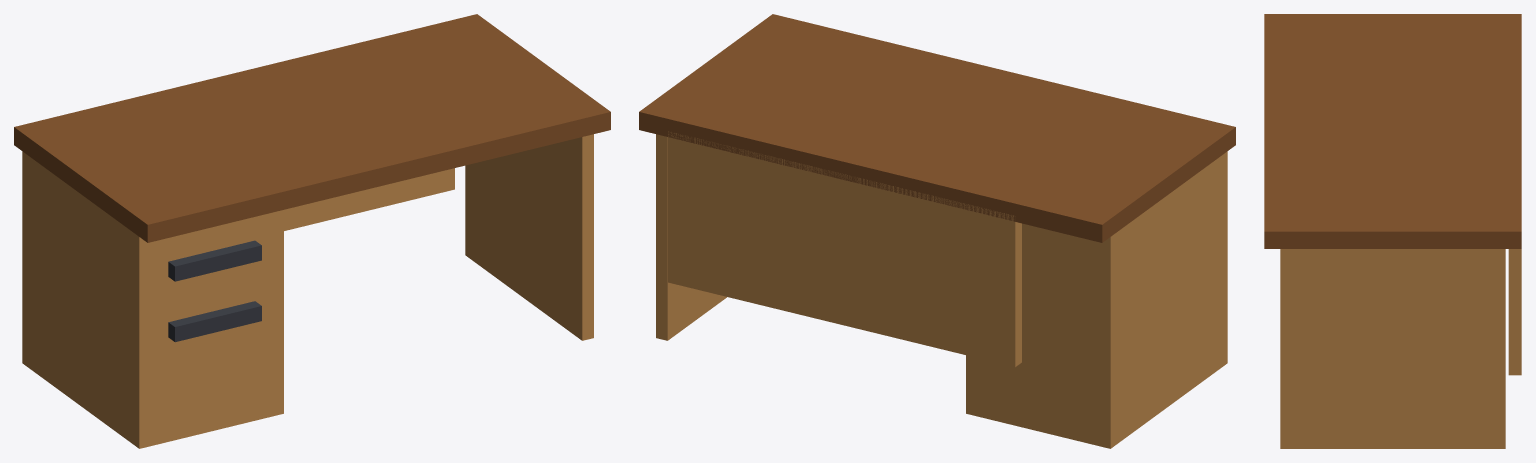
The model's file is teacher_desk.glb.
3 renders of one model, left to right at view 1: azimuth 30°, elevation 25°; view 2: azimuth 150°, elevation 25°; view 3: azimuth 270°, elevation 25°, orthographic. The views are drawn at different scales.
Visible parts, largest first — view 1: teacher_desk; view 2: teacher_desk; view 3: teacher_desk.
Boxes of the visible parts, x1,y1,x2,y2 form: teacher_desk: (14,14,610,448); teacher_desk: (639,14,1235,448); teacher_desk: (1264,14,1521,448).
Size of the model in its own units: 1.6 by 0.76 by 0.8.
